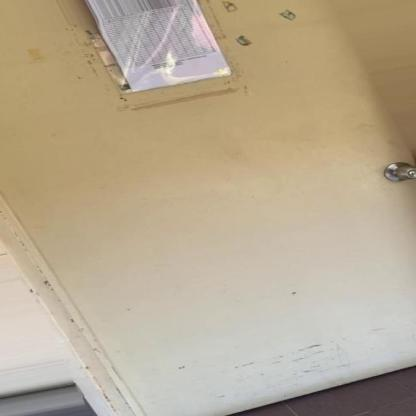door: (0, 0, 416, 396)
